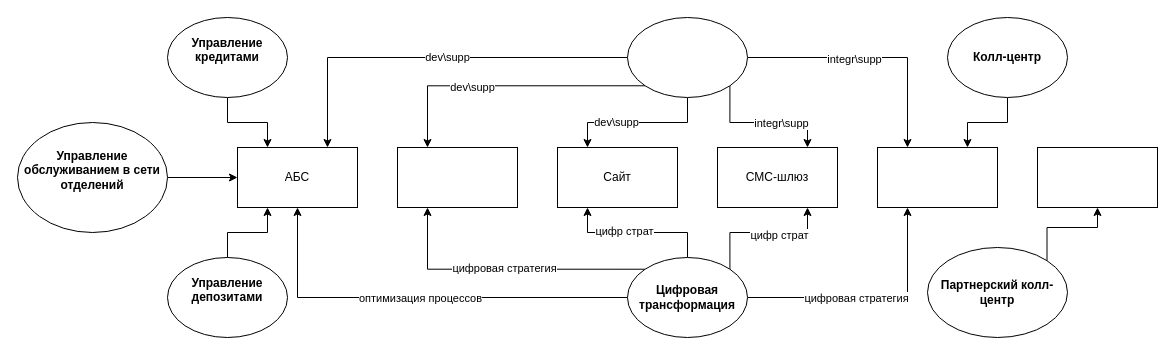
Some shapes in this 1175 by 355 pixel diagram are drawn without their labels. The centre of each missing label's shape, as x and y in pixels:
Интернет-Банк: pixel 457 177
Система колл-центра: pixel 937 177
Система партнерского колл-центра: pixel 1097 177
Управление IT: pixel 687 57
